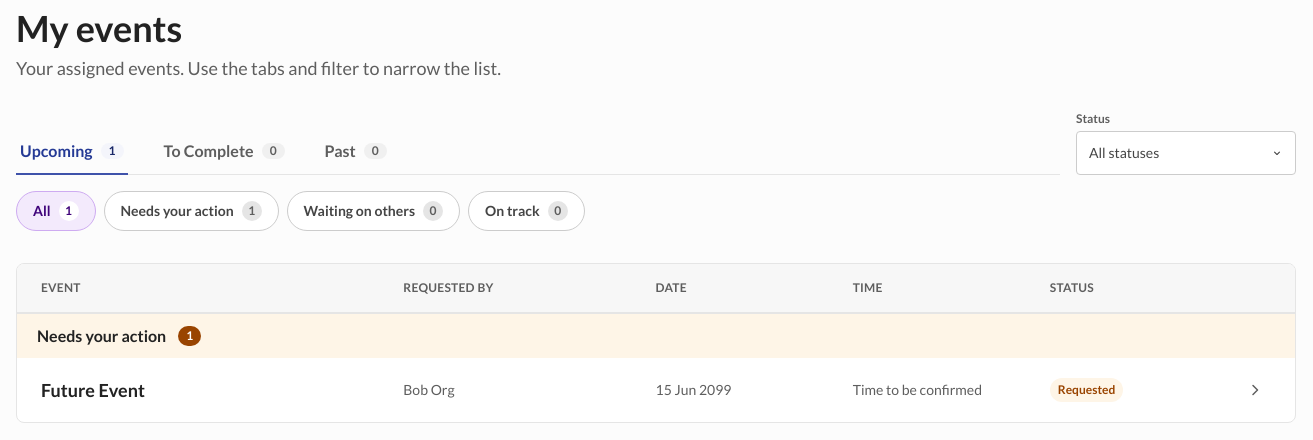
CoordinatorWorkloadView — Upcoming / Past tabs › says when nothing matches the current tab and filter
The width and height of the screenshot is (1313, 440).
Click the tab "Past 0".
click(356, 152)  # box [321,129,391,175]
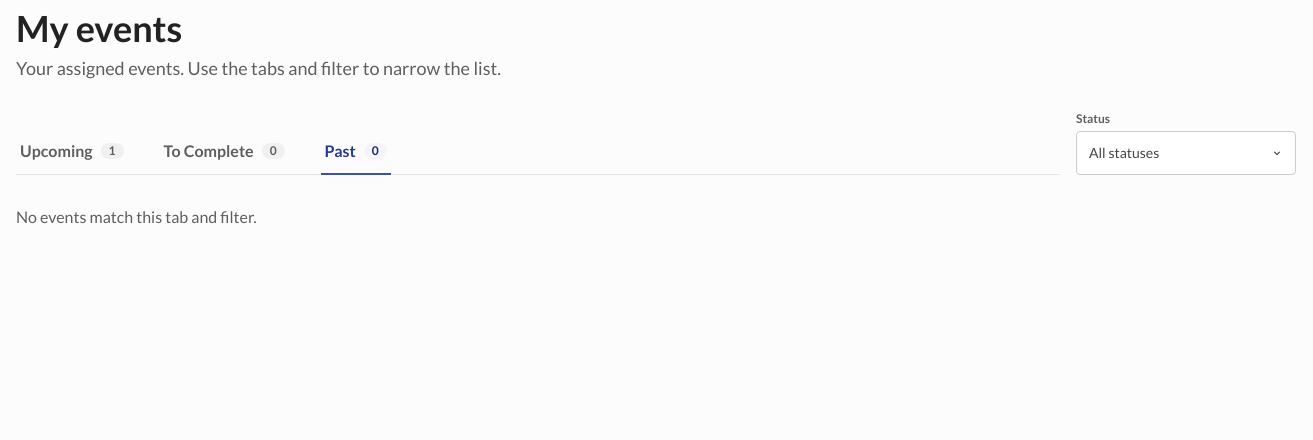
Result: the text "No events match this tab and filter" is shown at [16,207,257,226]
